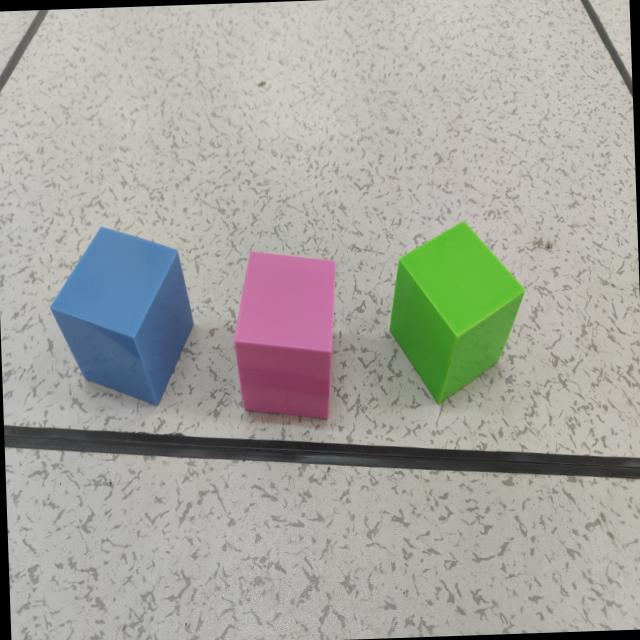blue: (49, 229, 195, 406)
green: (388, 223, 524, 406)
pink: (233, 251, 337, 421)
